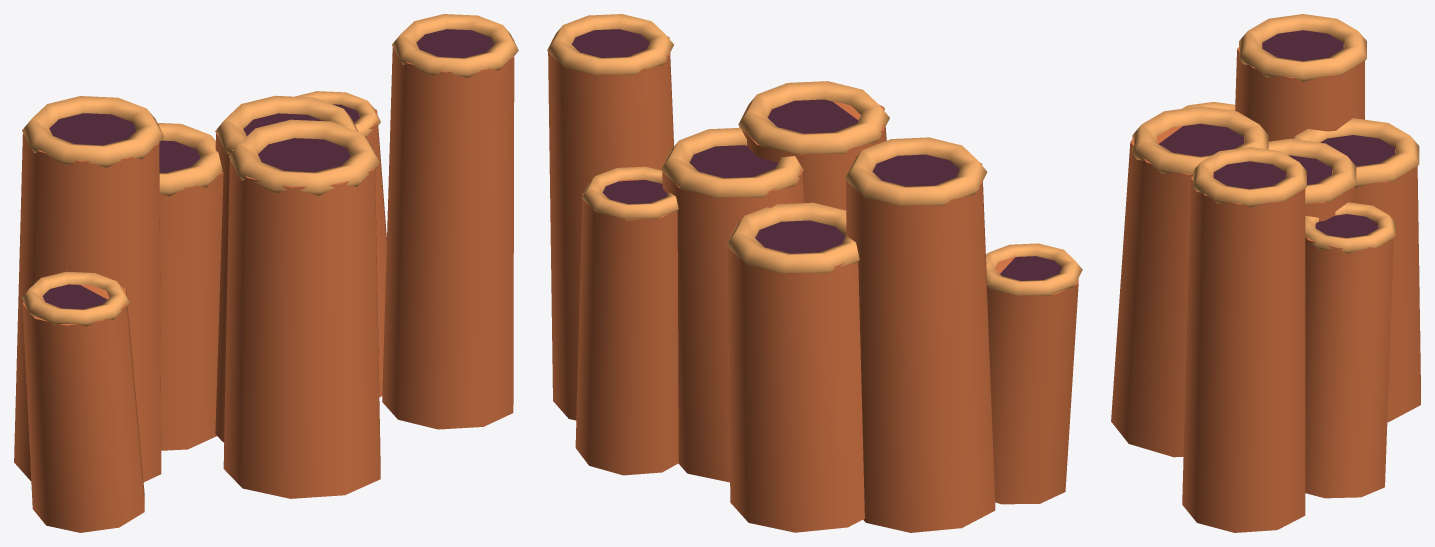
Rendered from 09-tube-colony.glb.
3 renders of one model, left to right at view 1: azimuth 30°, elevation 25°; view 2: azimuth 150°, elevation 25°; view 3: azimuth 270°, elevation 25°, orthographic. The views are drawn at different scales.
Bounding box in the file's own units: 3.12 × 2.18 × 1.78.
